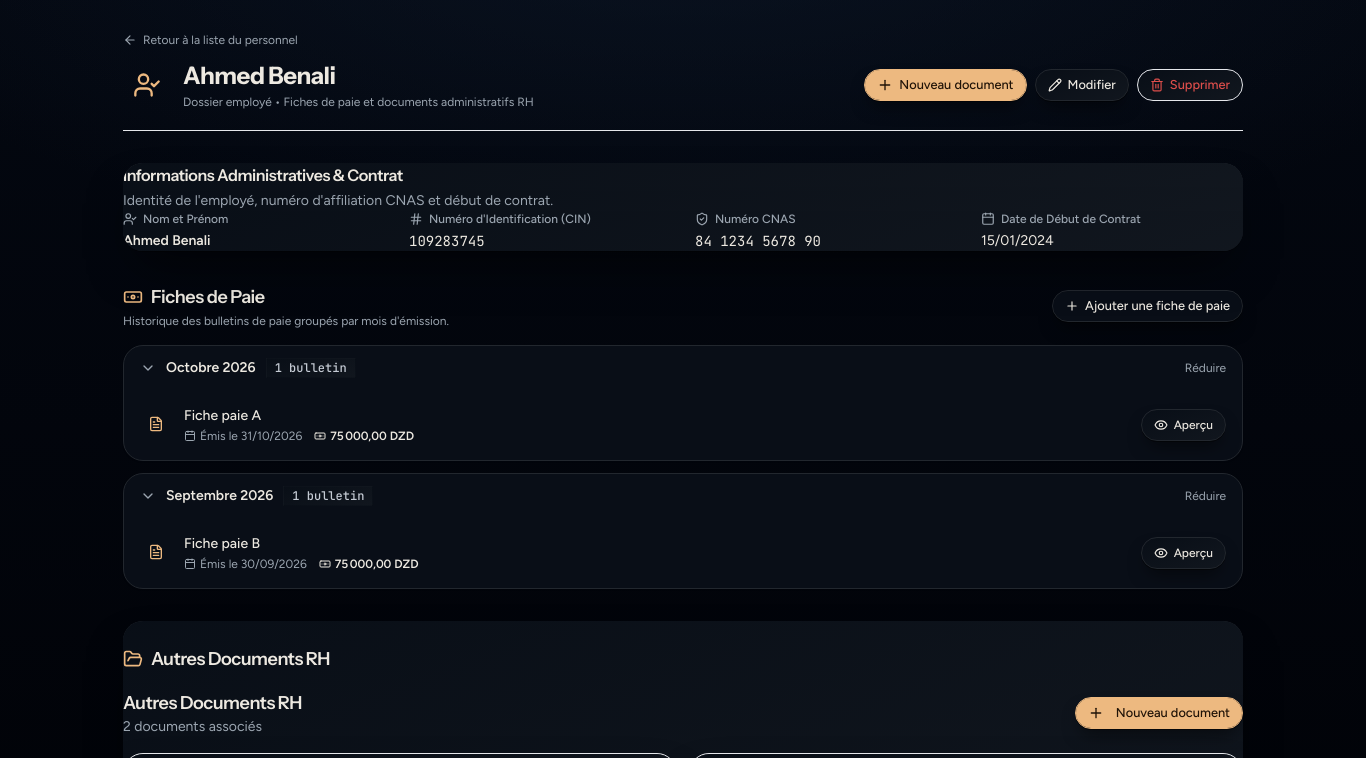
Test: WorkerProfilePage › toggles collapsible month section
The width and height of the screenshot is (1366, 758).
Expected: the text "Fiche paie A" is shown, x1=184 y1=407 x2=261 y2=424
Click the button "Octobre 2026 1 bulletin Réduire".
click(211, 368)  # box x1=124 y1=346 x2=1242 y2=390
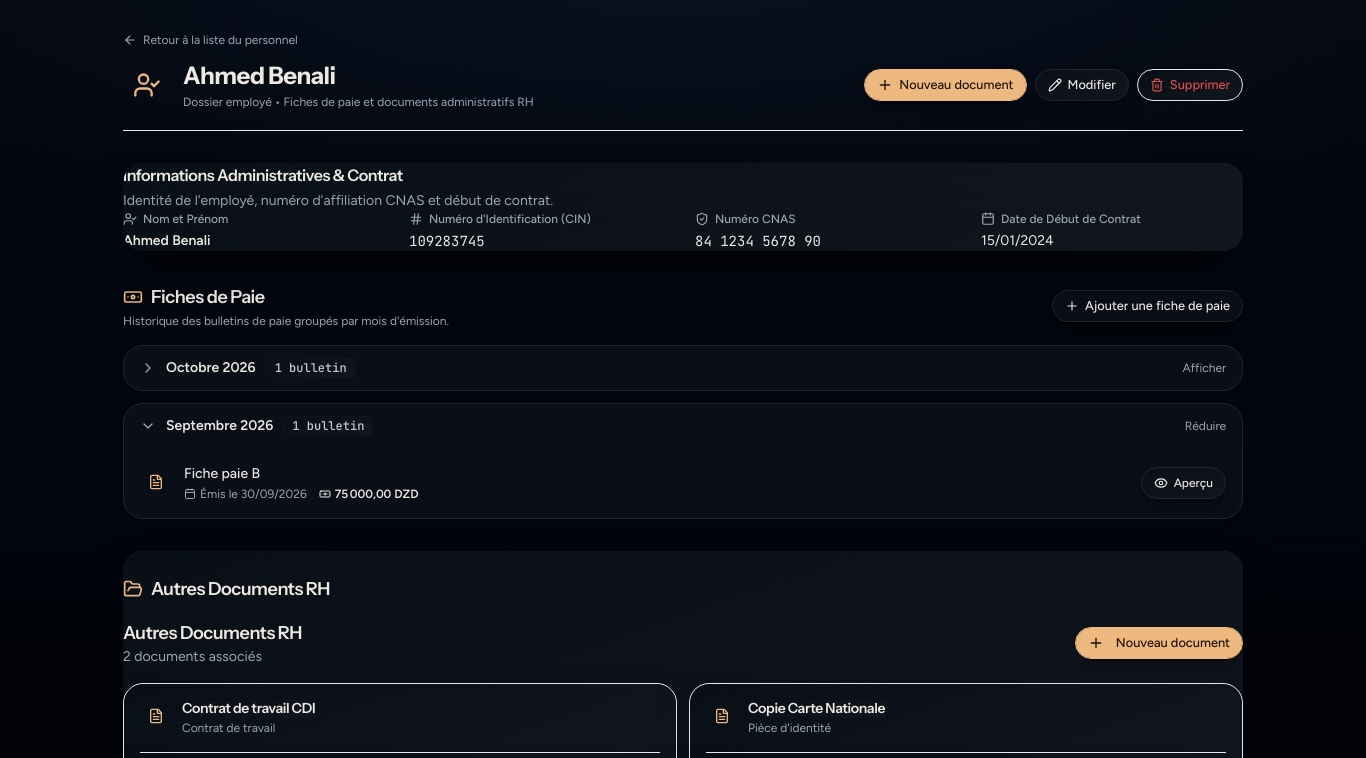
Expected: the text "Fiche paie A" is gone
# Click again to re-expand
Click the button "Octobre 2026 1 bulletin Afficher".
click(211, 368)  # box x1=124 y1=346 x2=1242 y2=390
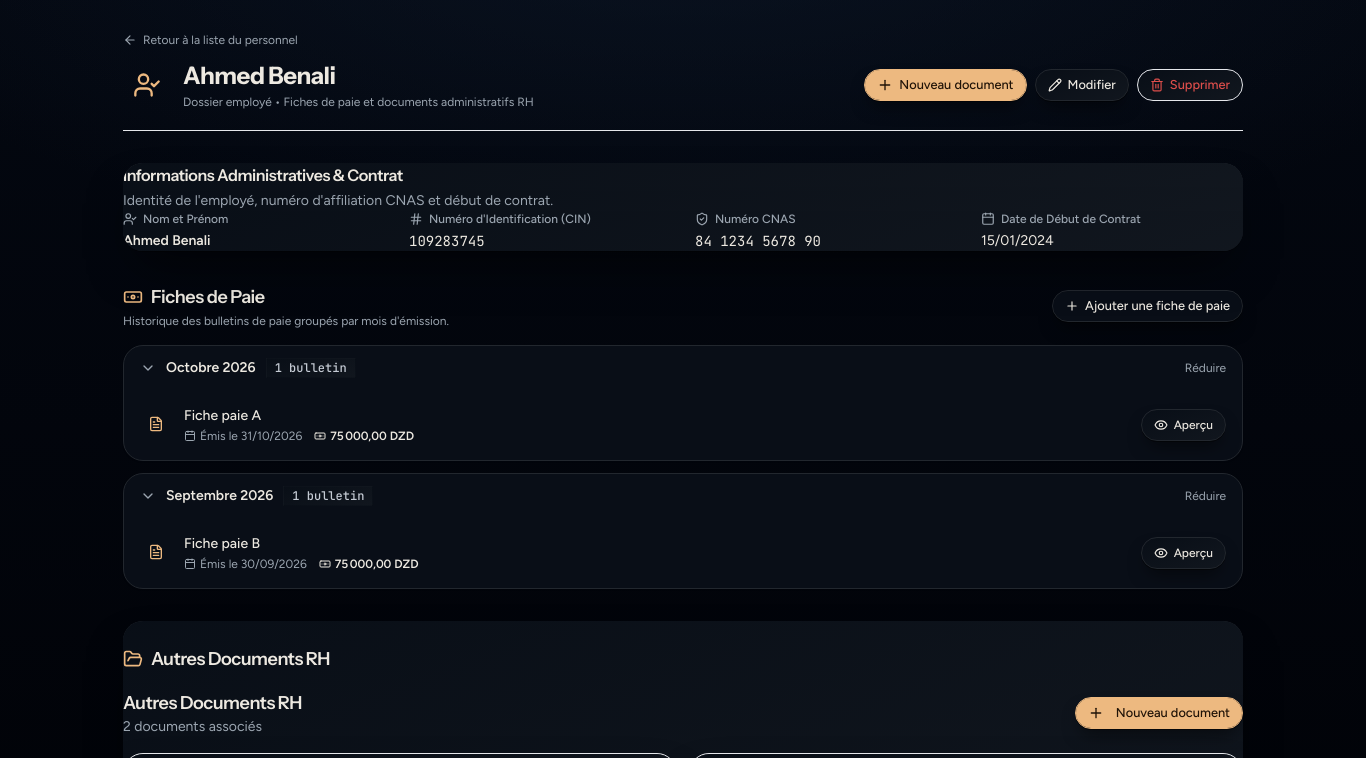
Expected: the text "Fiche paie A" is shown, x1=184 y1=407 x2=261 y2=424
